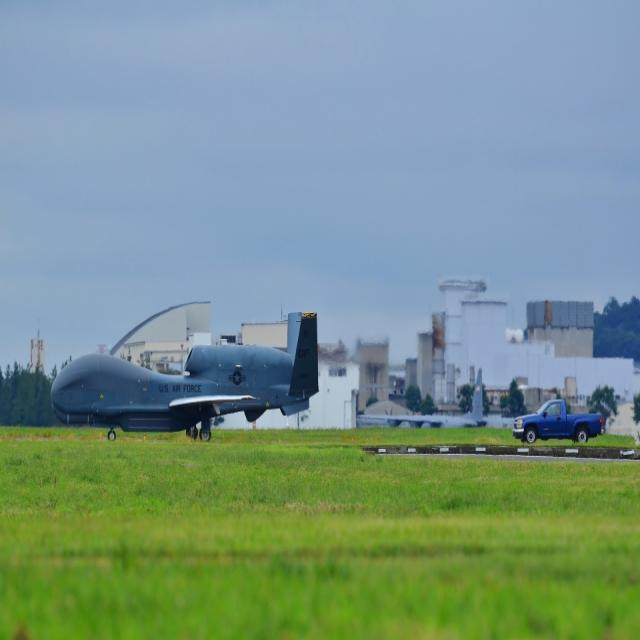MIL_Plane: (50, 311, 320, 441), (37, 48, 195, 106)
